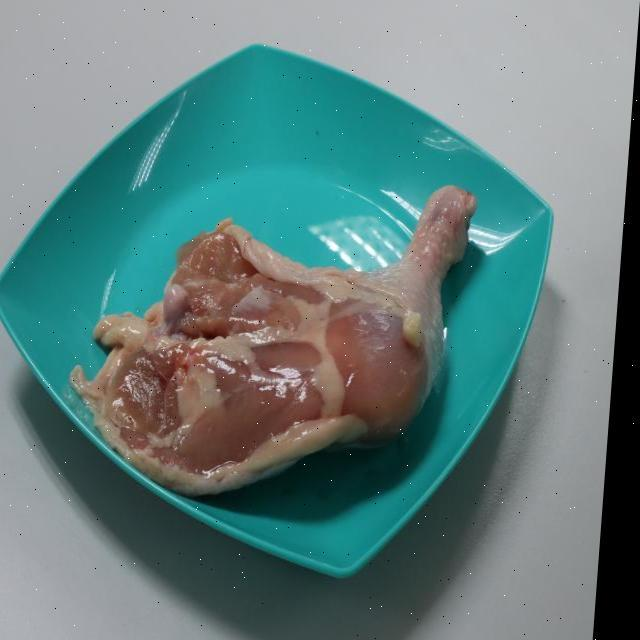quater: (102, 187, 480, 475)
